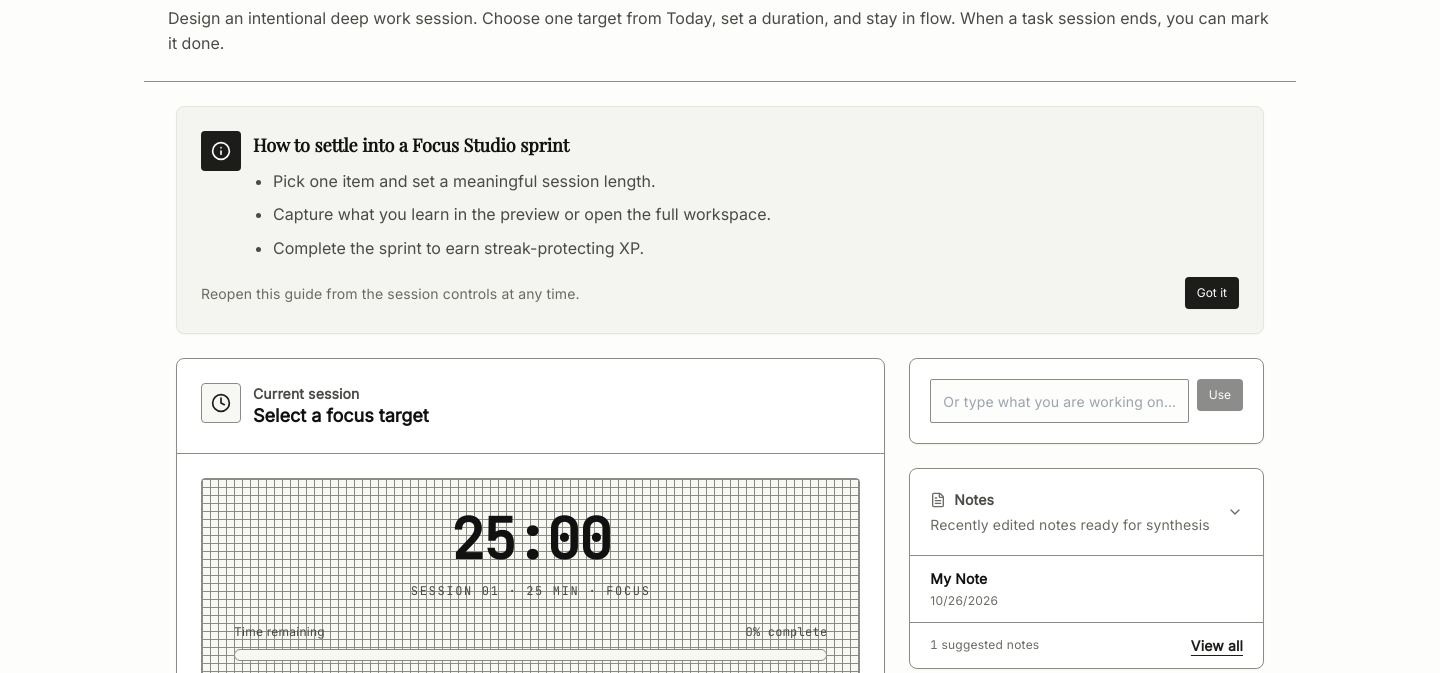
it: FocusWorkspace › fresh Focus is empty until a target is picked
The image size is (1440, 673).
Expected: the text "Design an intentional deep work session" is shown, [168,8,1269,53]
Expected: the text "Select a focus target" is shown, [253,404,429,429]
Click the text "My Note" at (959, 579), box [930,570,987,587]
(page scrolled)
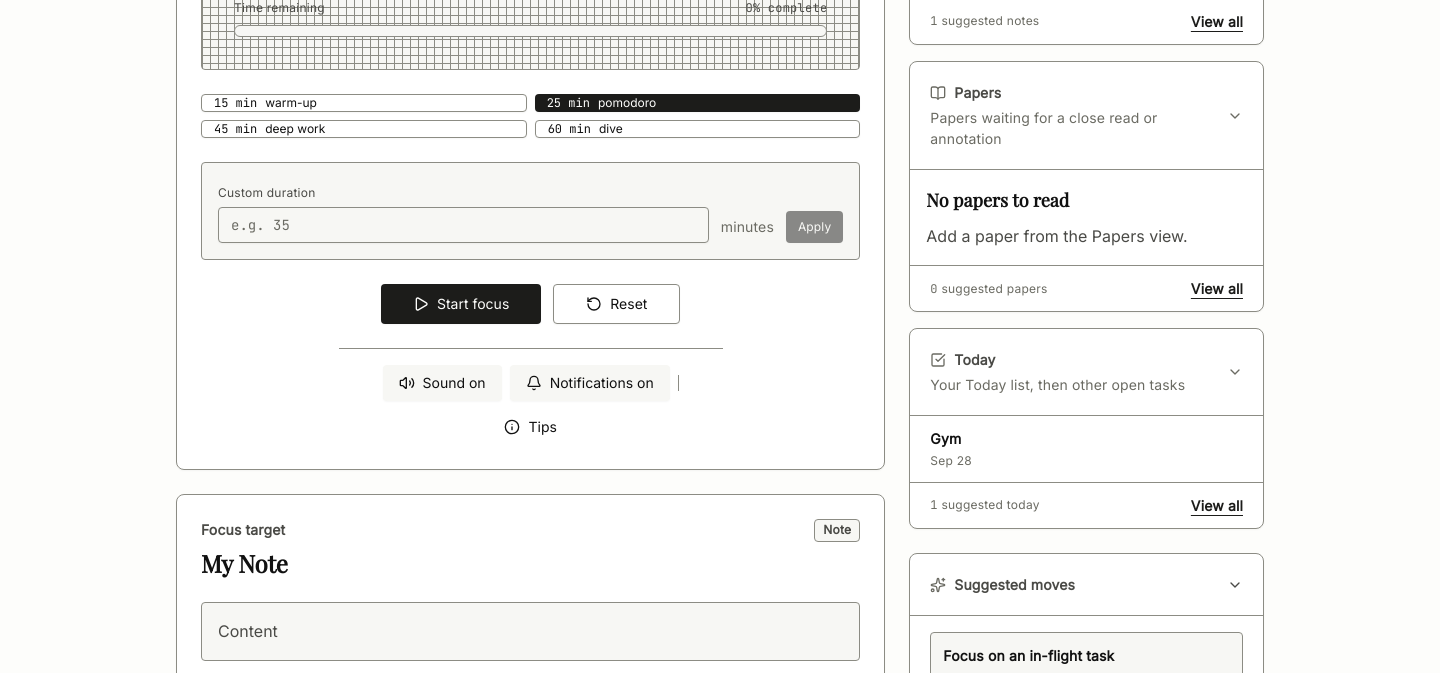
Expected: the button "Start focus" is enabled, [381,284,541,324]
